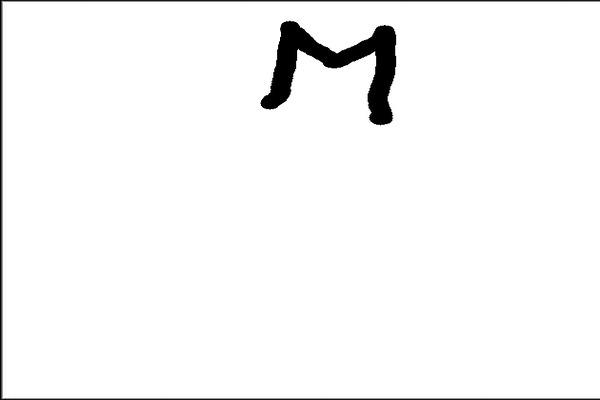M: (255, 16, 397, 125)
